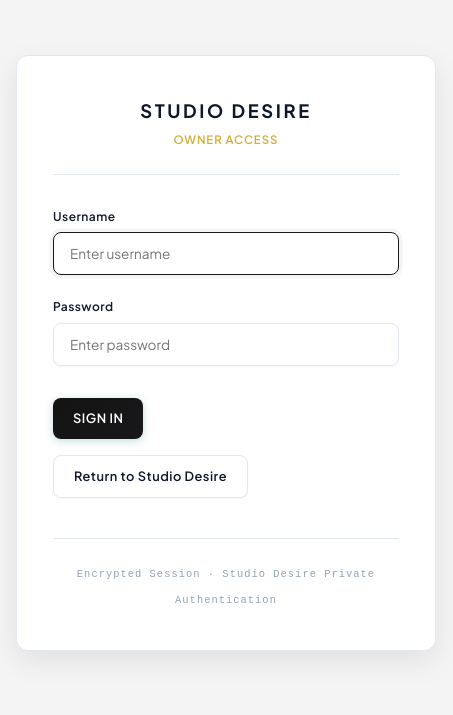
LoginPage Component › displays error message on authentication failure
Step 1. Type "unknown" into the field with placeholder "Enter username" → point(226, 254), box [53,232,399,276]
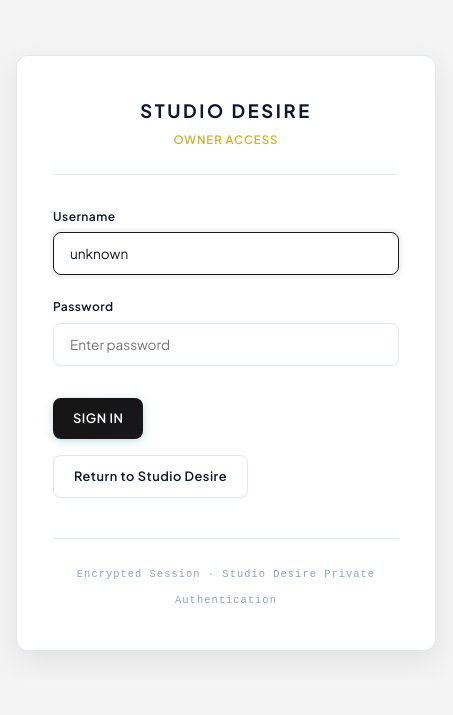
Step 2. Type "wrong" into the password field with placeholder "Enter password" → point(226, 344), box [53,323,399,366]
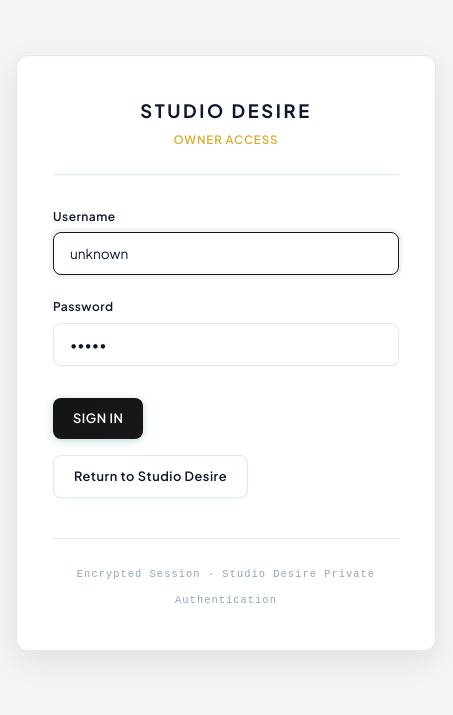
Step 3. Click the button "SIGN IN" → point(98, 418), box [53,398,143,439]
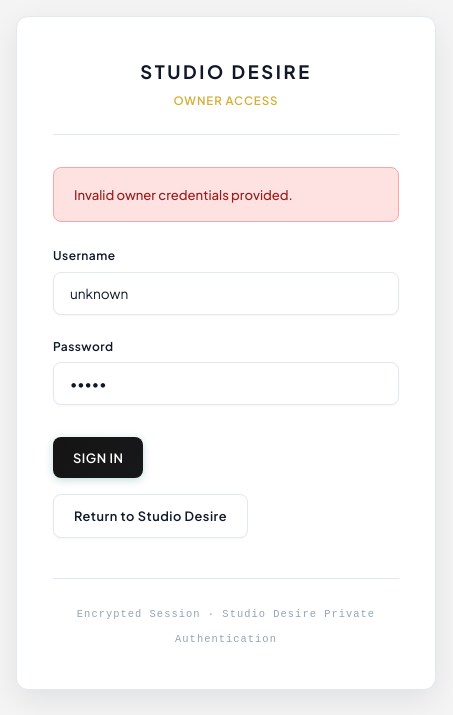
Now the text "Invalid owner credentials provided." is shown, box [53,167,399,222]
